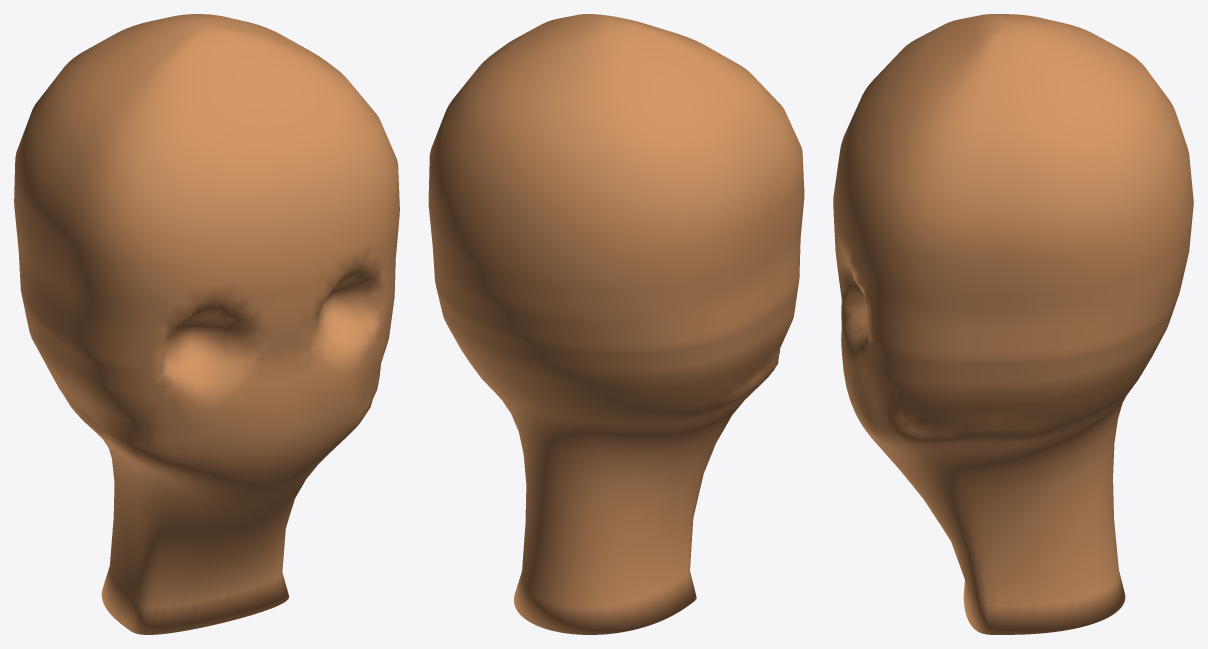
File: base-feminina-03.glb
The picture shows the model from 3 angles, left to right: view 1: azimuth 30°, elevation 25°; view 2: azimuth 150°, elevation 25°; view 3: azimuth 270°, elevation 25°; orthographic projection. The views are drawn at different scales.
Visible parts, largest first — view 1: RCL_Base_Feminina_03; view 2: RCL_Base_Feminina_03; view 3: RCL_Base_Feminina_03.
Boxes of the visible parts, x1,y1,x2,y2 form: RCL_Base_Feminina_03: (14,14,399,634); RCL_Base_Feminina_03: (428,14,804,634); RCL_Base_Feminina_03: (833,14,1193,634).
Size of the model in its own units: 0.174 by 0.305 by 0.174.
